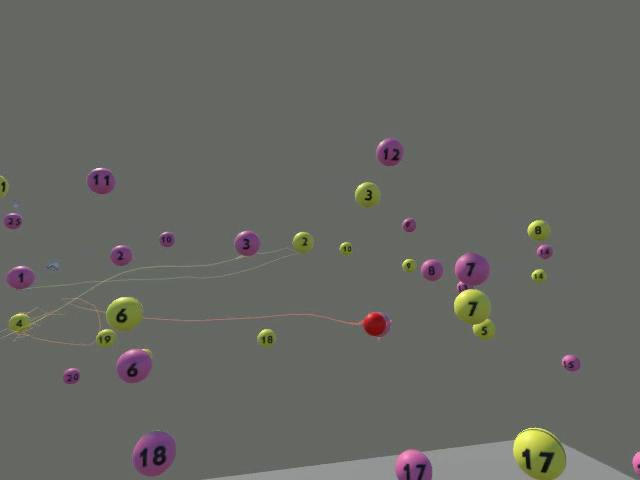ball_01_pink: (6, 264, 35, 288)
ball_02_pink: (110, 244, 132, 266)
ball_02_yellow: (291, 231, 313, 253)
ball_03_pink: (233, 230, 260, 256)
ball_03_yellow: (354, 181, 380, 207)
ball_04_yellow: (8, 312, 30, 332)
ball_05_yellow: (471, 318, 495, 339)
ball_06_pink: (115, 348, 152, 383)
ball_06_yellow: (105, 296, 142, 331)
ball_07_pink: (454, 252, 489, 286)
ball_07_yellow: (453, 288, 490, 324)
ball_08_pink: (421, 259, 442, 281)
ball_08_yellow: (526, 219, 550, 240)
ball_09_pink: (401, 217, 415, 232)
ball_09_yellow: (401, 258, 416, 272)
ball_10_pink: (159, 231, 175, 247)
ball_10_yellow: (338, 241, 352, 255)
ball_11_pink: (86, 167, 115, 194)
ball_12_pink: (375, 137, 403, 166)
ball_14_pink: (535, 244, 553, 258)
ball_14_yellow: (531, 269, 546, 282)
ball_15_pink: (561, 354, 579, 371)
ball_17_pink: (394, 449, 431, 479)
ball_17_yellow: (512, 426, 566, 479)
ball_18_pink: (131, 430, 175, 476)
ball_18_yellow: (256, 328, 276, 346)
ball_19_yellow: (95, 328, 116, 347)
ball_20_pink: (62, 367, 79, 384)
ball_25_pink: (3, 213, 22, 229)
ball_unknown: (631, 450, 639, 475), (382, 315, 391, 335), (0, 175, 8, 197), (456, 280, 468, 292), (142, 348, 152, 355)
user_cursor: (363, 311, 388, 336)
